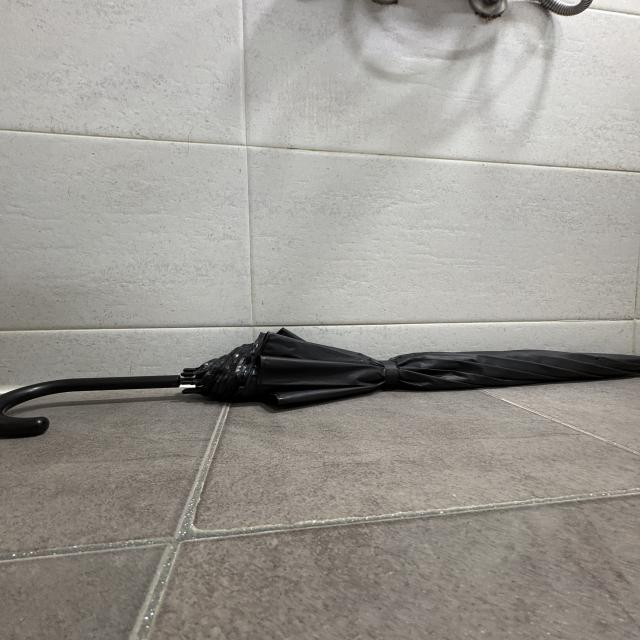umbrella: (2, 328, 640, 441)
